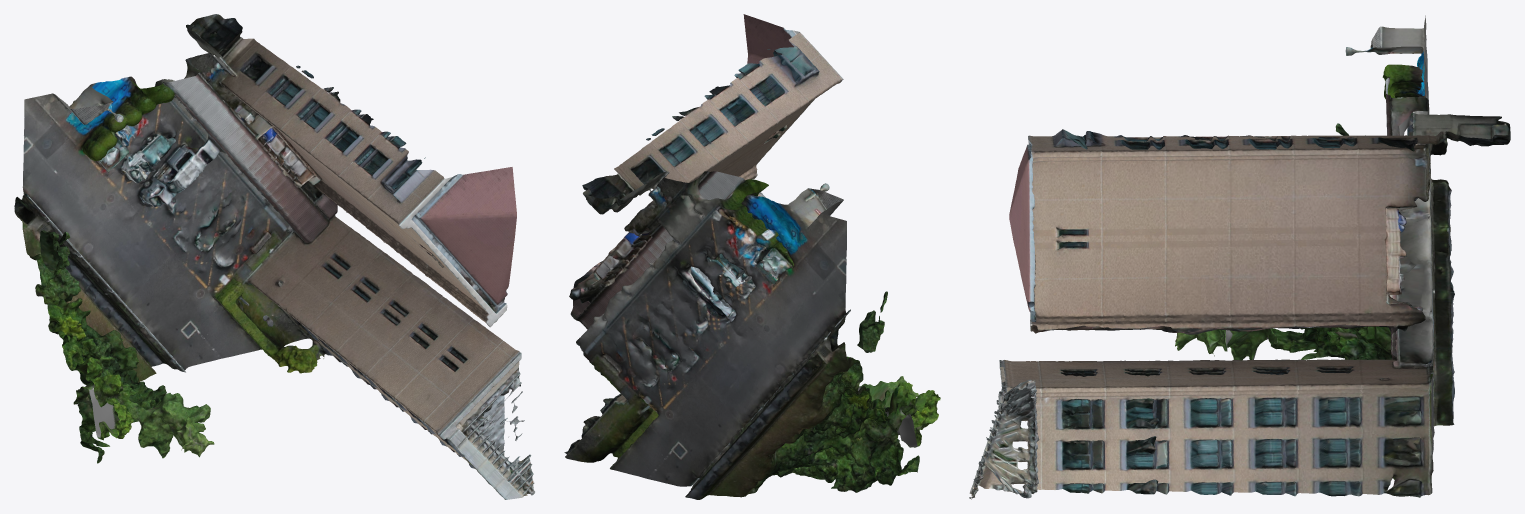
The model's file is Tile_+006_+019.fbx.
3 views of the same model, side by side, from view 1: azimuth 30°, elevation 25°; view 2: azimuth 150°, elevation 25°; view 3: azimuth 270°, elevation 25° (orthographic). The views are drawn at different scales.
Visible parts, largest first — view 1: DefaultName; view 2: DefaultName; view 3: DefaultName.
Boxes of the visible parts, bbox=[...] form: DefaultName: bbox=[14, 14, 534, 499]; DefaultName: bbox=[564, 14, 940, 499]; DefaultName: bbox=[969, 15, 1510, 499].
Bounding box in the file's own units: 22.54 × 22.54 × 33.38.
